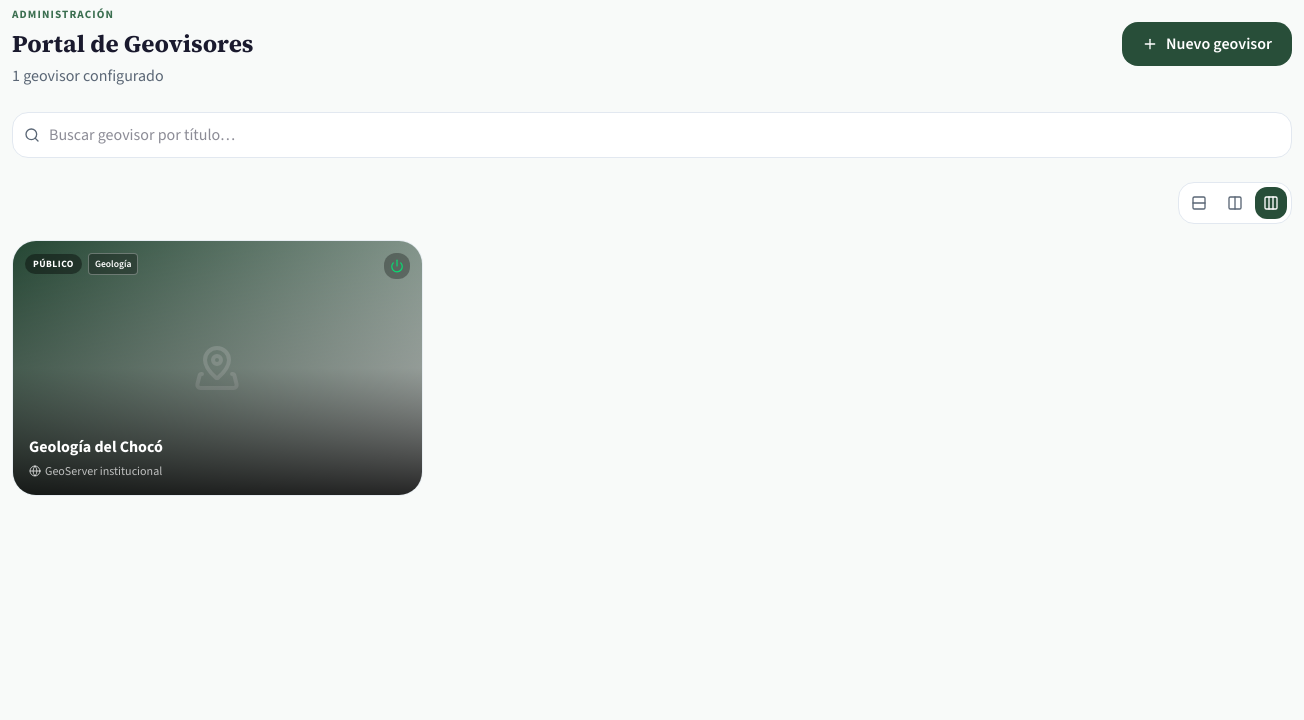
Test case: GestionGeovisores — activar/desactivar › desactivar nunca abre el diálogo de bloqueo, ni siquiera si el backend devolviera GEOVISOR_INCOMPLETO
Click the button titled "Desactivar": (397, 266) [384,253,410,279]
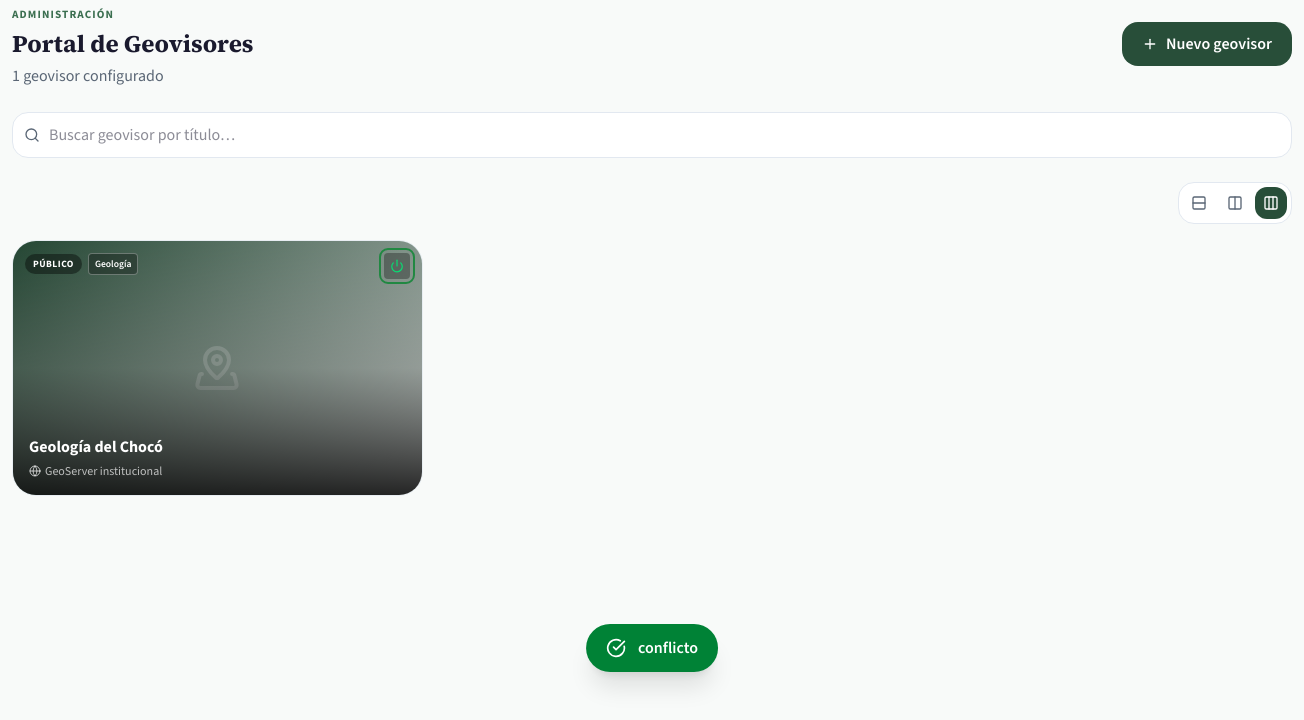
expect the text "conflicto" is shown: met, box [638,636,698,660]
